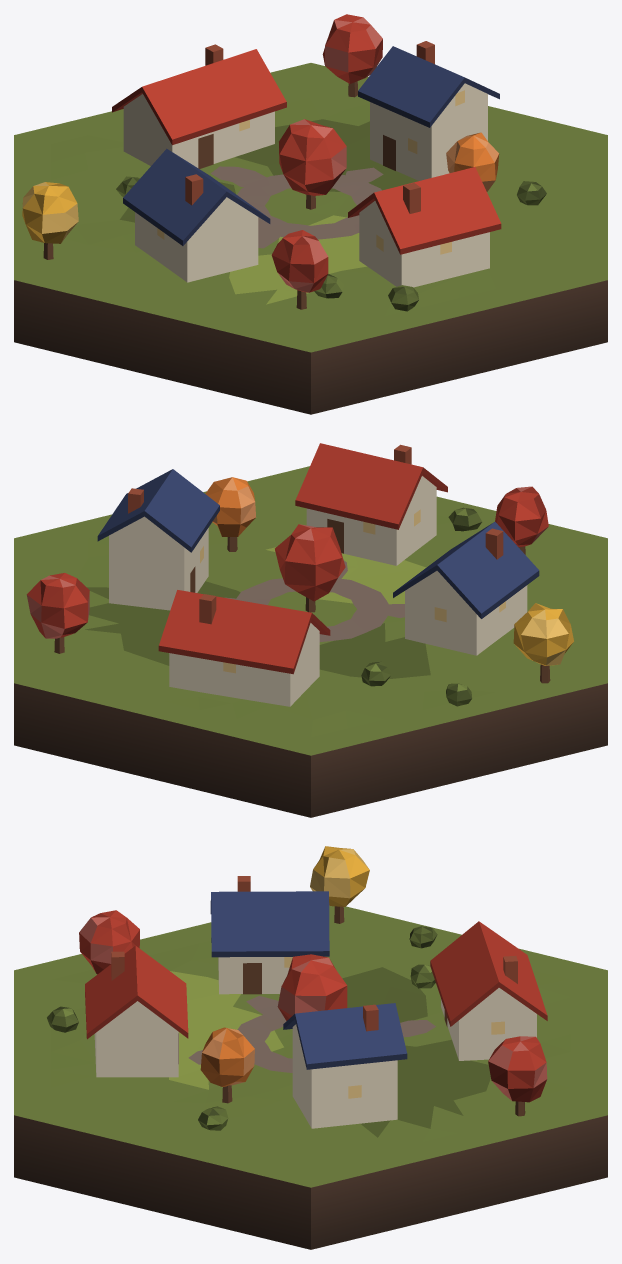
Rendered from SM_Tile_Village_A.fbx.
The picture shows the model from 3 angles, top to bottom: view 1: azimuth 30°, elevation 25°; view 2: azimuth 150°, elevation 25°; view 3: azimuth 270°, elevation 25°; orthographic projection.
Visible parts, largest first — view 1: SM_Tile_Village_A; view 2: SM_Tile_Village_A; view 3: SM_Tile_Village_A.
Part boxes in pixels (x1,y1,x2,y2): SM_Tile_Village_A: (14,14,607,414); SM_Tile_Village_A: (14,443,607,817); SM_Tile_Village_A: (14,846,607,1249).
Size of the model in its own units: 20 by 5.4 by 17.32.
